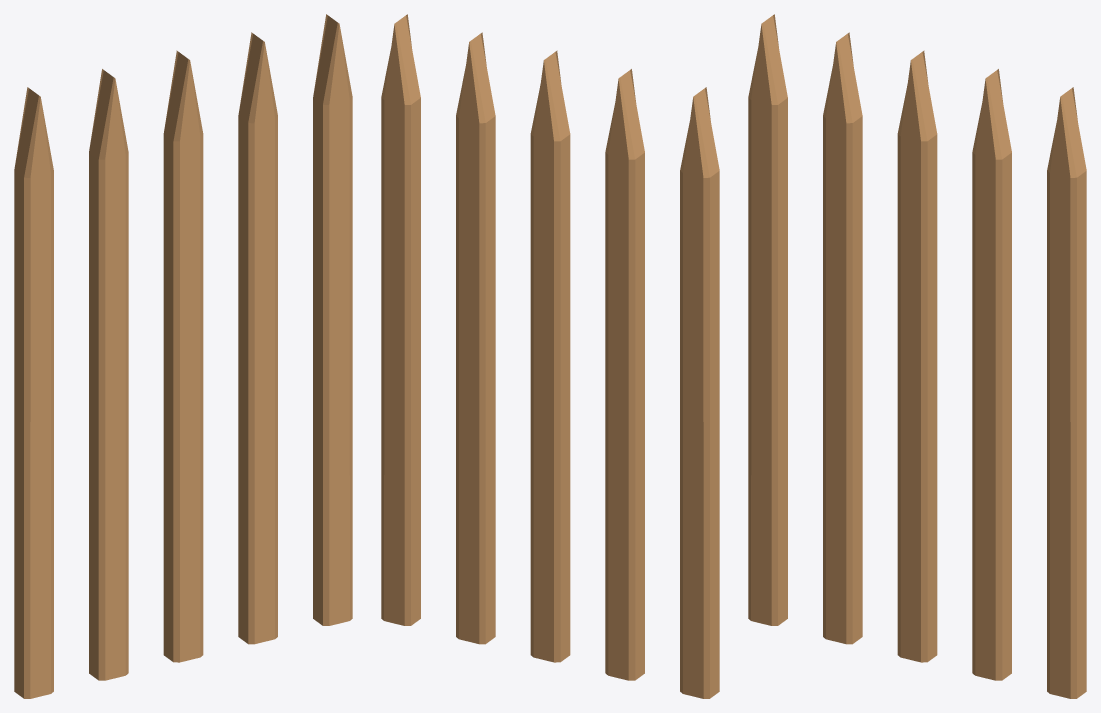
The model's file is mdl_franch_cliffside_gate_snake.gltf.
3 views of the same model, side by side, from view 1: azimuth 30°, elevation 25°; view 2: azimuth 150°, elevation 25°; view 3: azimuth 330°, elevation 25° (orthographic).
Parts seen in each view (by area): view 1: Cube.015; view 2: Cube.015; view 3: Cube.015.
Boxes of the visible parts, x1,y1,x2,y2 form: Cube.015: [14, 14, 352, 698]; Cube.015: [381, 14, 719, 698]; Cube.015: [748, 14, 1086, 698].
Size of the model in its own units: 0.485 by 0.8457 by 0.0341.
